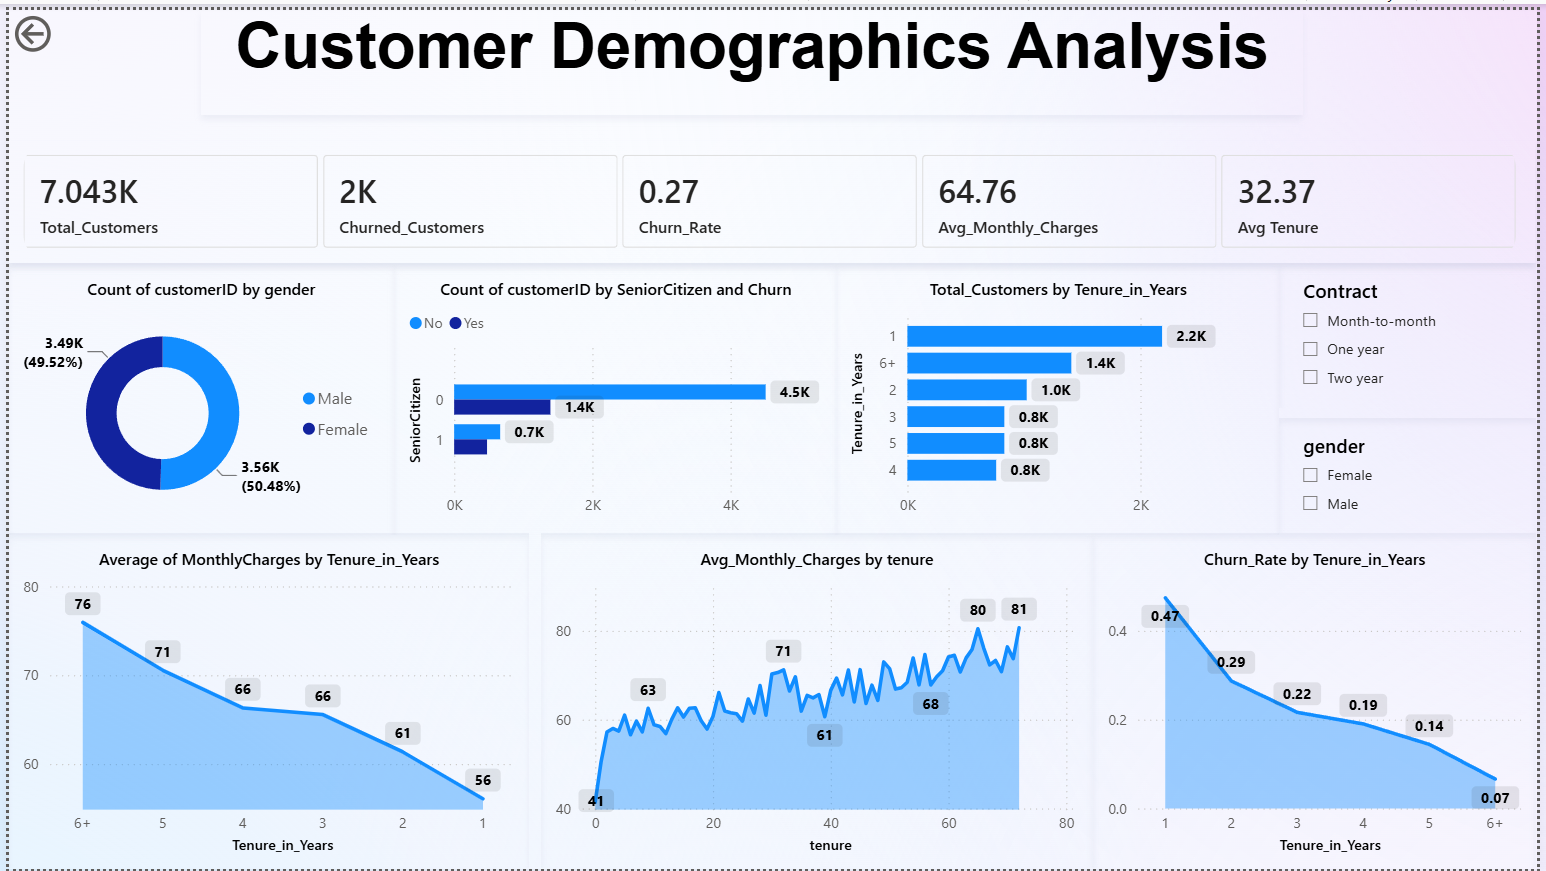

This screenshot's page, from the dashboard's own definition file:
{"tool":"powerbi","page":{"name":"Customer Demographics Analysis","canvas":[1280,720],"ordinal":0},"visuals":[{"type":"donutChart","fields":{"Y":["CountNonNull(Churn_analysis.customerID)"],"Category":["Churn_analysis.gender"]},"box":[0,212,322.5,227.1],"z":0},{"type":"cardVisual","fields":{"Data":["Churn_analysis.Total_Customers","Churn_analysis.Churned_Customers","Churn_analysis.Churn_Rate","Churn_analysis.Avg_Monthly_Charges","Churn_analysis.Avg Tenure"]},"box":[0,109,1279.5,103],"z":1000},{"type":"actionButton","box":[0,0,100,40],"z":2000},{"type":"textbox","box":[160.5,0,923.7,87.8],"z":3000},{"type":"areaChart","fields":{"Category":["Churn_analysis.Tenure_in_Years"],"Y":["Avg(Churn_analysis.MonthlyCharges)"]},"box":[0,439.1,436.1,280.1],"z":4000},{"type":"lineChart","fields":{"Category":["Churn_analysis.tenure"],"Y":["Churn_analysis.Avg_Monthly_Charges"]},"box":[446.7,439.1,461.8,280.1],"z":5000},{"type":"areaChart","fields":{"Category":["Churn_analysis.Tenure_in_Years"],"Y":["Churn_analysis.Churn_Rate"]},"box":[908.5,439.1,371,280.1],"z":6000},{"type":"clusteredBarChart","fields":{"Category":["Churn_analysis.SeniorCitizen"],"Y":["CountNonNull(Churn_analysis.customerID)"],"Series":["Churn_analysis.Churn"]},"box":[322.5,212,371,227.1],"z":7000},{"type":"clusteredBarChart","fields":{"Category":["Churn_analysis.Tenure_in_Years"],"Y":["Churn_analysis.Total_Customers"]},"box":[693.5,212,371,227.1],"z":8000},{"type":"slicer","fields":{"Values":["Churn_analysis.gender"]},"box":[1064.5,342.2,215,96.9],"z":9000},{"type":"slicer","fields":{"Values":["Churn_analysis.Contract"]},"box":[1064.5,212,215,121.1],"z":10000}]}

Visuals, with their boxes in screenshot pixels (x1, y1, x2, y2), scaled from the page's 1280x720 canvas onto the 1546x871 screenshot:
donutChart - CountNonNull(Churn_analysis.customerID) x Churn_analysis.gender: select_region(0, 256, 390, 531)
cardVisual - Churn_analysis.Total_Customers x Churn_analysis.Churned_Customers: select_region(0, 132, 1545, 256)
actionButton: select_region(0, 0, 121, 48)
textbox: select_region(194, 0, 1310, 106)
areaChart - Churn_analysis.Tenure_in_Years x Avg(Churn_analysis.MonthlyCharges): select_region(0, 531, 527, 870)
lineChart - Churn_analysis.tenure x Churn_analysis.Avg_Monthly_Charges: select_region(540, 531, 1097, 870)
areaChart - Churn_analysis.Tenure_in_Years x Churn_analysis.Churn_Rate: select_region(1097, 531, 1545, 870)
clusteredBarChart - Churn_analysis.SeniorCitizen x CountNonNull(Churn_analysis.customerID): select_region(390, 256, 838, 531)
clusteredBarChart - Churn_analysis.Tenure_in_Years x Churn_analysis.Total_Customers: select_region(838, 256, 1286, 531)
slicer - Churn_analysis.gender: select_region(1286, 414, 1545, 531)
slicer - Churn_analysis.Contract: select_region(1286, 256, 1545, 403)
